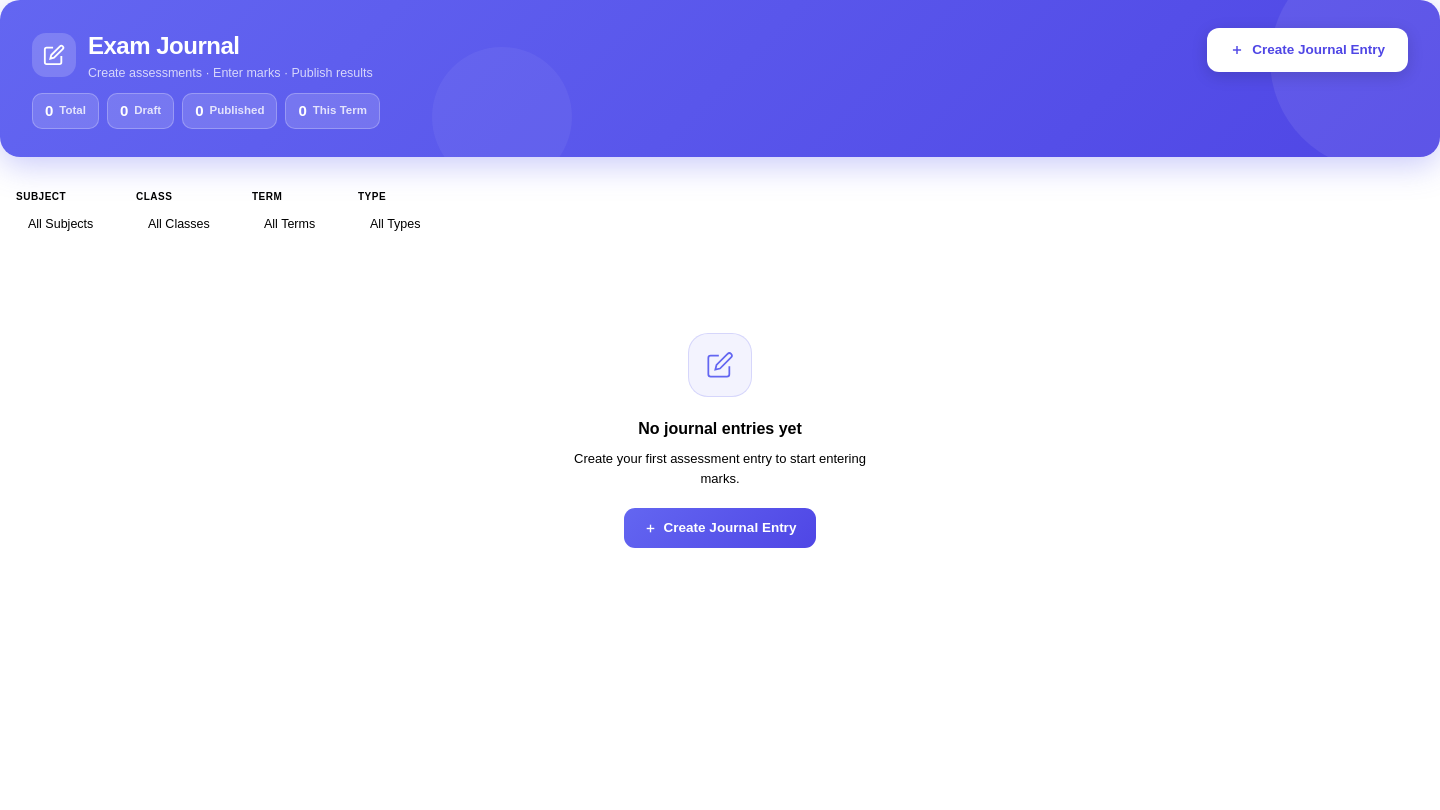
Test: ExamJournalPage › clicking "Create Journal Entry" opens the create modal (shows Assessment Type field)
The image size is (1440, 810).
Click the button "Create Journal Entry" in the row of "Exam Journal".
click(1308, 50)  # box [1207, 28, 1408, 72]
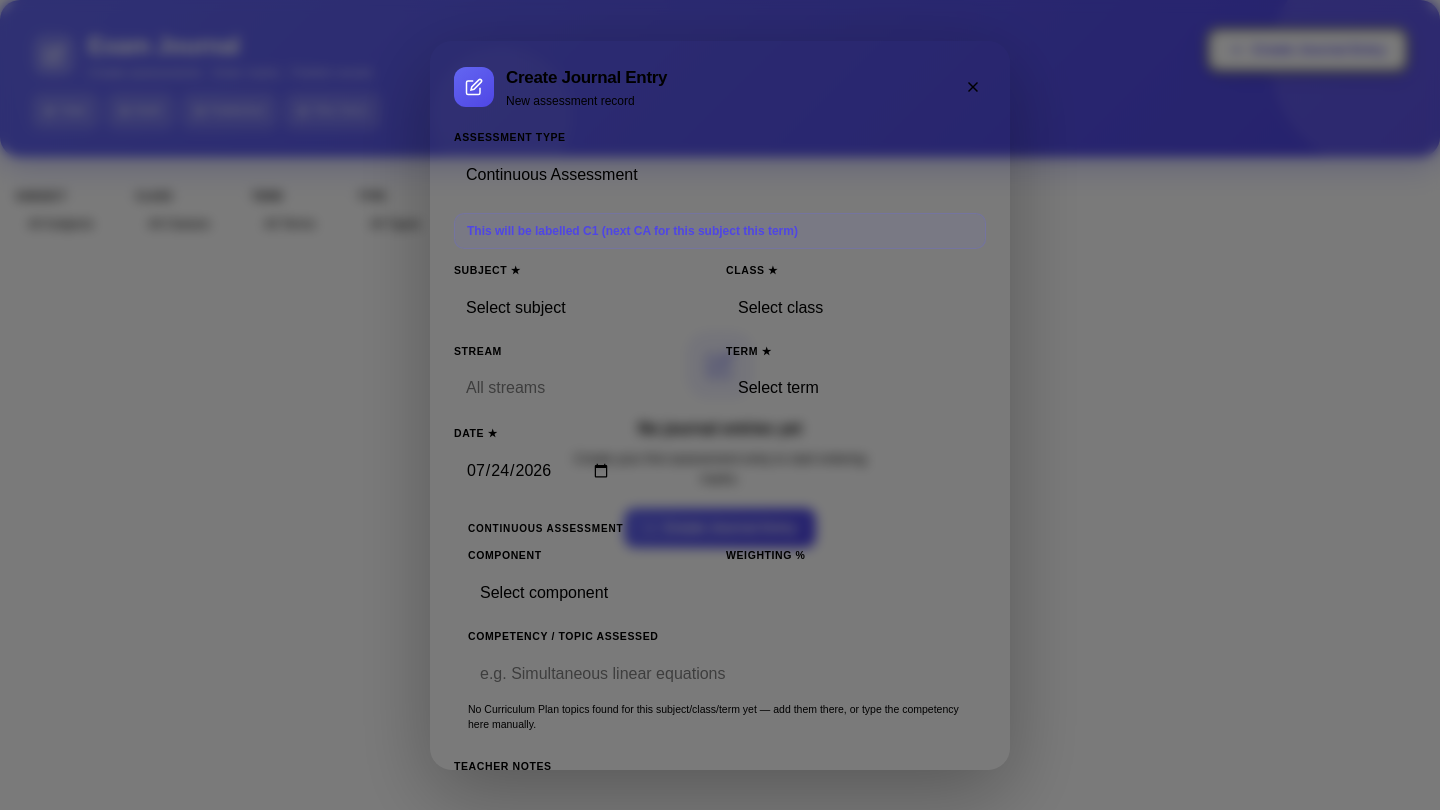
Now the text "Assessment Type" is shown, box [454, 131, 566, 143]
